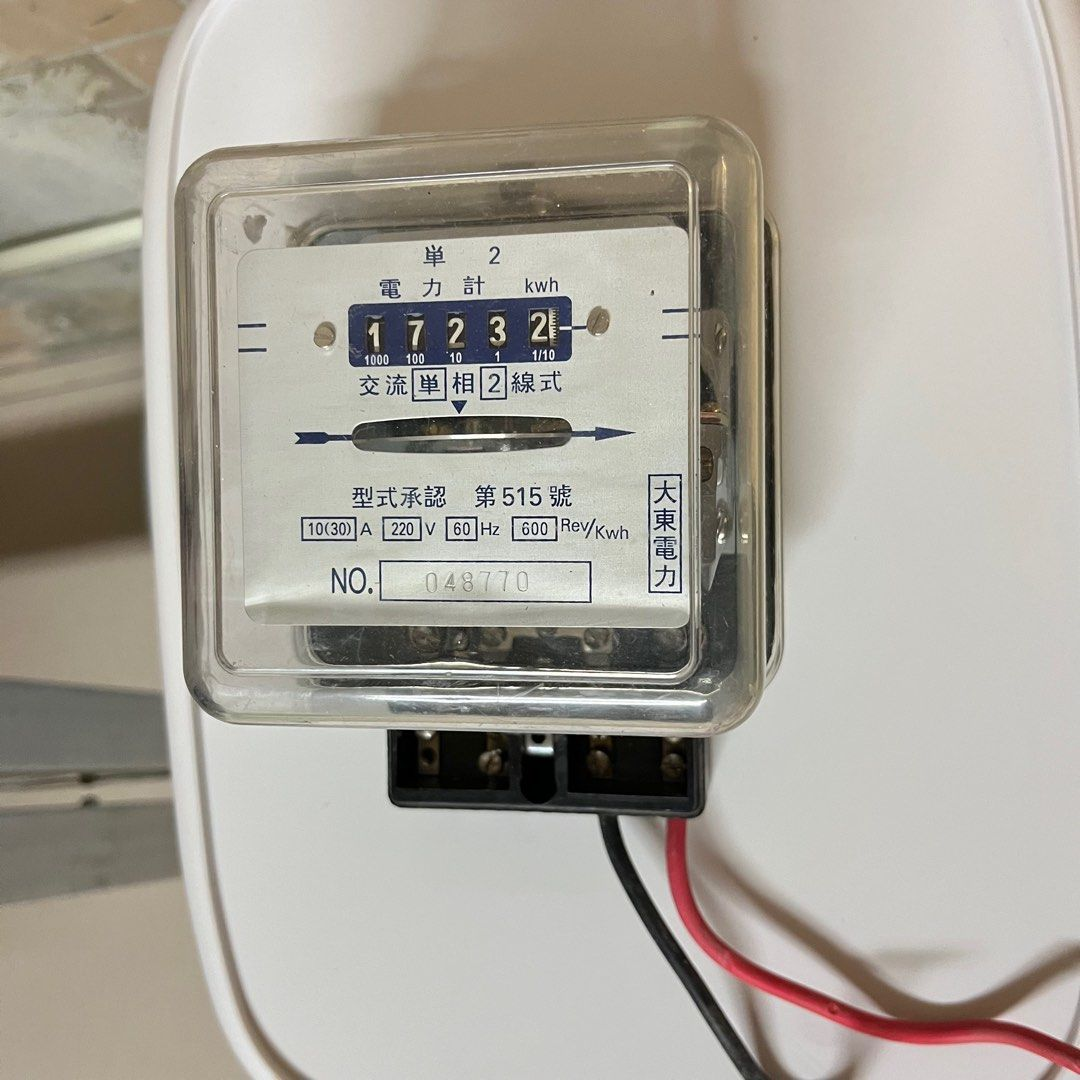show: (347, 294, 572, 370)
